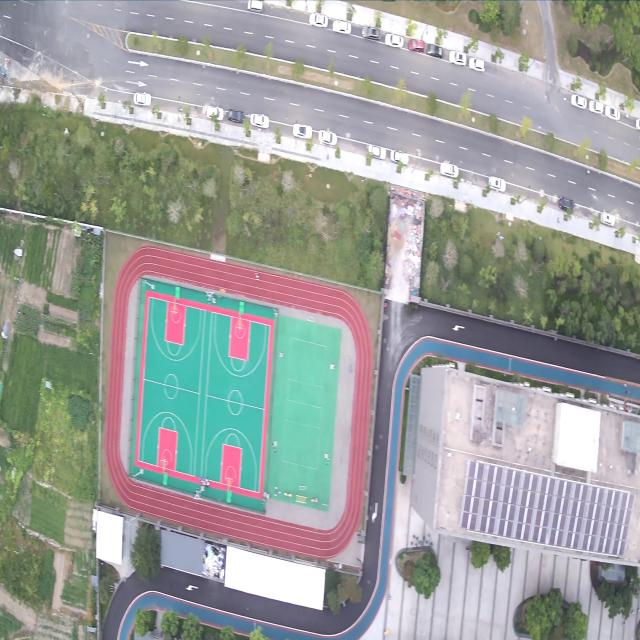UAV: (320, 230, 331, 240)
